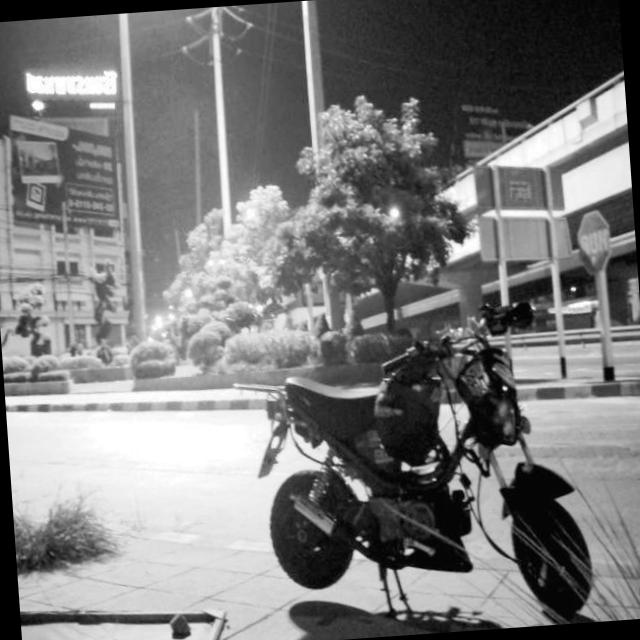Motorcycle: (219, 287, 640, 640)
